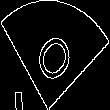O_SW: (31, 21, 79, 89)
